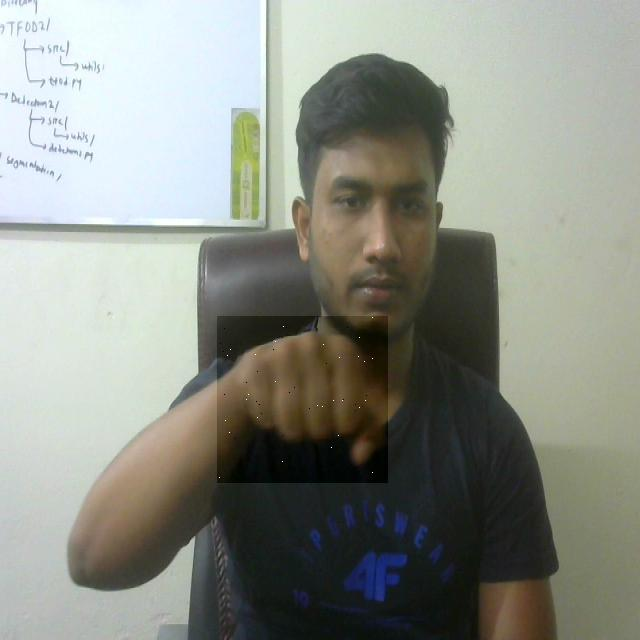Yes: (217, 316, 388, 483)
